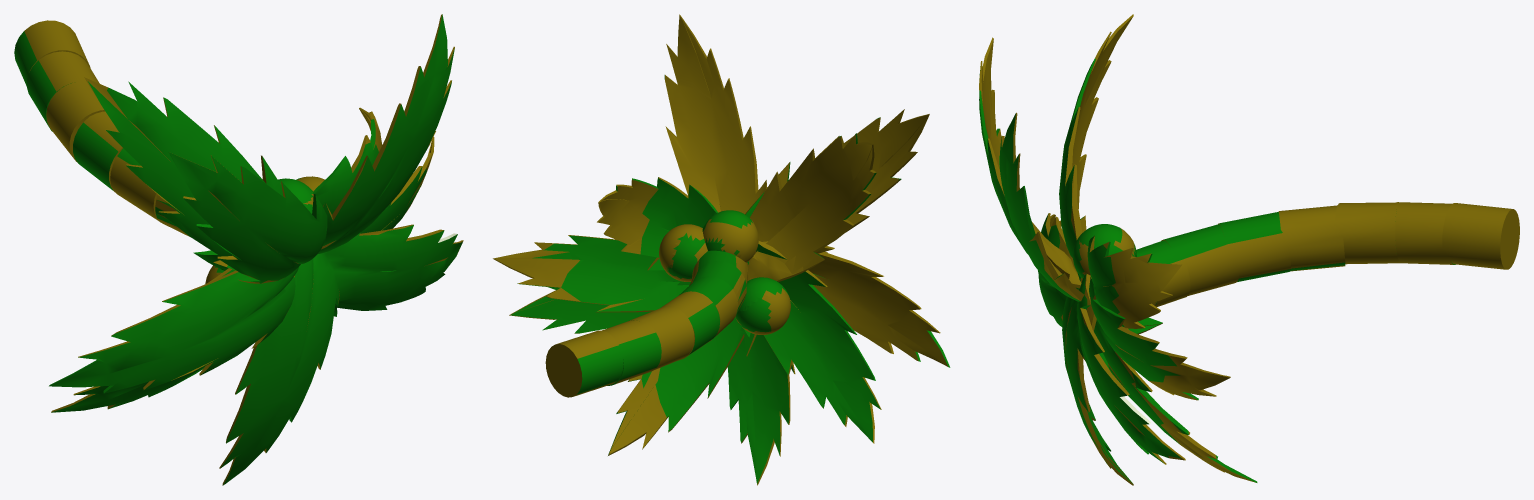
File: palm_tree.obj
3 renders of one model, left to right at view 1: azimuth 30°, elevation 25°; view 2: azimuth 150°, elevation 25°; view 3: azimuth 270°, elevation 25°, orthographic. The views are drawn at different scales.
Parts seen in each view (by area): view 1: 0; view 2: 0; view 3: 0.
Boxes of the visible parts, x1,y1,x2,y2 form: 0: (14, 14, 463, 485); 0: (493, 14, 950, 485); 0: (979, 14, 1519, 485).
Size of the model in its own units: 109 by 106 by 117.
